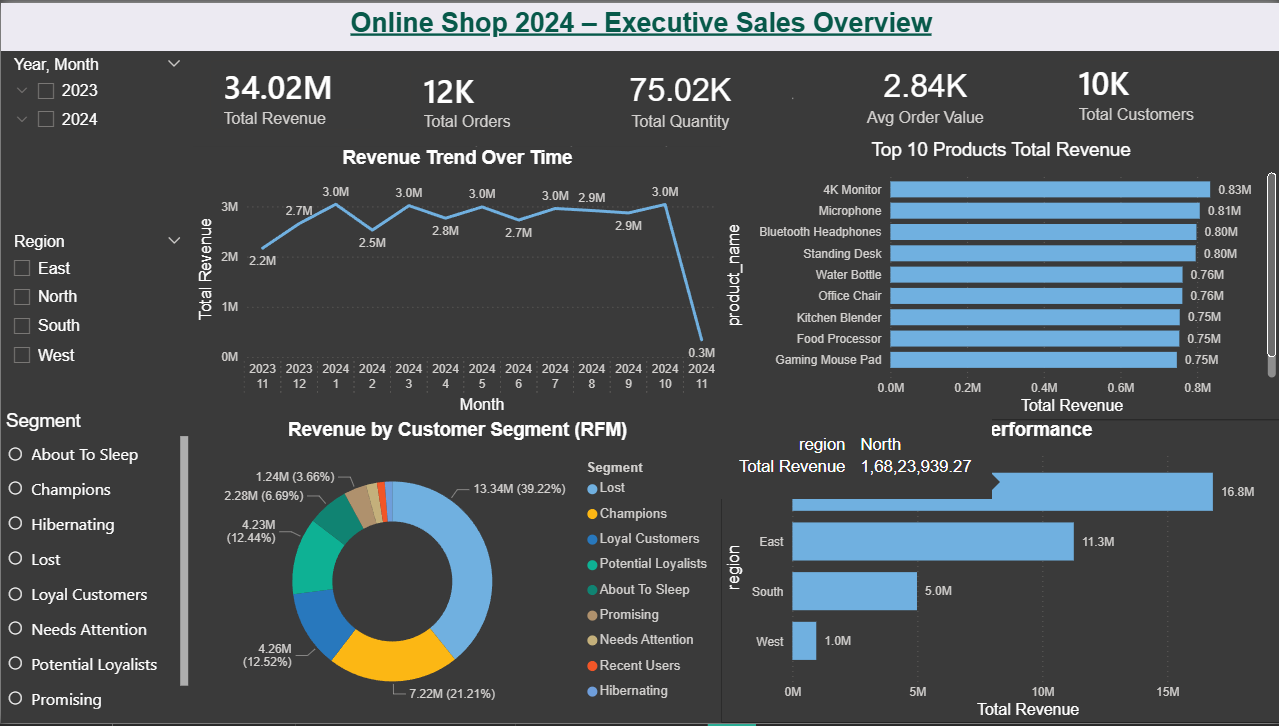

This screenshot's page, from the dashboard's own definition file:
{"tool":"powerbi","page":{"name":"Executive Overview","canvas":[1280,720],"ordinal":0},"visuals":[{"type":"cardVisual","title":"Total Revenue","fields":{"Data":["online_shop_2024 fact_sales.Total Revenue"]},"box":[192,40,200,104],"z":0},{"type":"cardVisual","title":"Total orders","fields":{"Data":["online_shop_2024 fact_sales.Total Orders"]},"box":[392,48,176,96],"z":1000},{"type":"card","title":"Avg Order Value","fields":{"Values":["online_shop_2024 fact_sales.Total Quantity"]},"box":[568,48,224,96],"z":2000},{"type":"lineChart","title":"Revenue Trend Over Time","fields":{"Category":["online_shop_2024 dim_date.month","online_shop_2024 dim_date.year"],"Y":["online_shop_2024 fact_sales.Total Revenue"]},"box":[192,144,528,272],"z":3000},{"type":"clusteredBarChart","title":"Region Performance","fields":{"Category":["online_shop_2024 customer_region.region"],"Y":["online_shop_2024 fact_sales.Total Revenue"]},"box":[720,416,560,304],"z":4000},{"type":"donutChart","title":"Revenue by Customer Segment (RFM)","fields":{"Category":["online_shop_2024 customer_rfm_segments.Segment"],"Y":["online_shop_2024 fact_sales.Total Revenue"]},"box":[192,416,528,304],"z":5000},{"type":"slicer","fields":{"Values":["online_shop_2024 dim_date.year","online_shop_2024 dim_date.month"]},"box":[0,48,192,176],"z":6000},{"type":"listSlicer","fields":{"Values":["online_shop_2024 customer_rfm_segments.Segment"]},"box":[0,408,192,312],"z":7000},{"type":"slicer","title":"Region","fields":{"Values":["online_shop_2024 customer_region.region"]},"box":[0,225,192.2,182.7],"z":8000},{"type":"card","fields":{"Values":["online_shop_2024 fact_sales.Avg Order Value"]},"box":[792,48,264,88],"z":9000},{"type":"barChart","title":"Top 10 Products Total Revenue","fields":{"Category":["online_shop_2024 dim_product.product_name"],"Y":["online_shop_2024 fact_sales.Total Revenue"]},"box":[720,136,560,280],"z":10000},{"type":"cardVisual","fields":{"Data":["online_shop_2024 fact_sales.Total Customers"]},"box":[1048,40,232,96],"z":11000},{"type":"textbox","box":[0,0,1280,48],"z":12000}]}

Visuals, with their boxes in screenshot pixels (x1, y1, x2, y2), scaled from the page's 1280x720 canvas onto the 1279x726 screenshot:
"Total Revenue" cardVisual: [x1=192, y1=40, x2=392, y2=145]
"Total orders" cardVisual: [x1=392, y1=48, x2=568, y2=145]
"Avg Order Value" card: [x1=568, y1=48, x2=791, y2=145]
"Revenue Trend Over Time" lineChart: [x1=192, y1=145, x2=719, y2=419]
"Region Performance" clusteredBarChart: [x1=719, y1=419, x2=1278, y2=725]
"Revenue by Customer Segment (RFM)" donutChart: [x1=192, y1=419, x2=719, y2=725]
slicer - online_shop_2024 dim_date.year x online_shop_2024 dim_date.month: [x1=0, y1=48, x2=192, y2=226]
listSlicer - online_shop_2024 customer_rfm_segments.Segment: [x1=0, y1=411, x2=192, y2=725]
"Region" slicer: [x1=0, y1=227, x2=192, y2=411]
card - online_shop_2024 fact_sales.Avg Order Value: [x1=791, y1=48, x2=1055, y2=137]
"Top 10 Products Total Revenue" barChart: [x1=719, y1=137, x2=1278, y2=419]
cardVisual - online_shop_2024 fact_sales.Total Customers: [x1=1047, y1=40, x2=1278, y2=137]
textbox: [x1=0, y1=0, x2=1278, y2=48]
